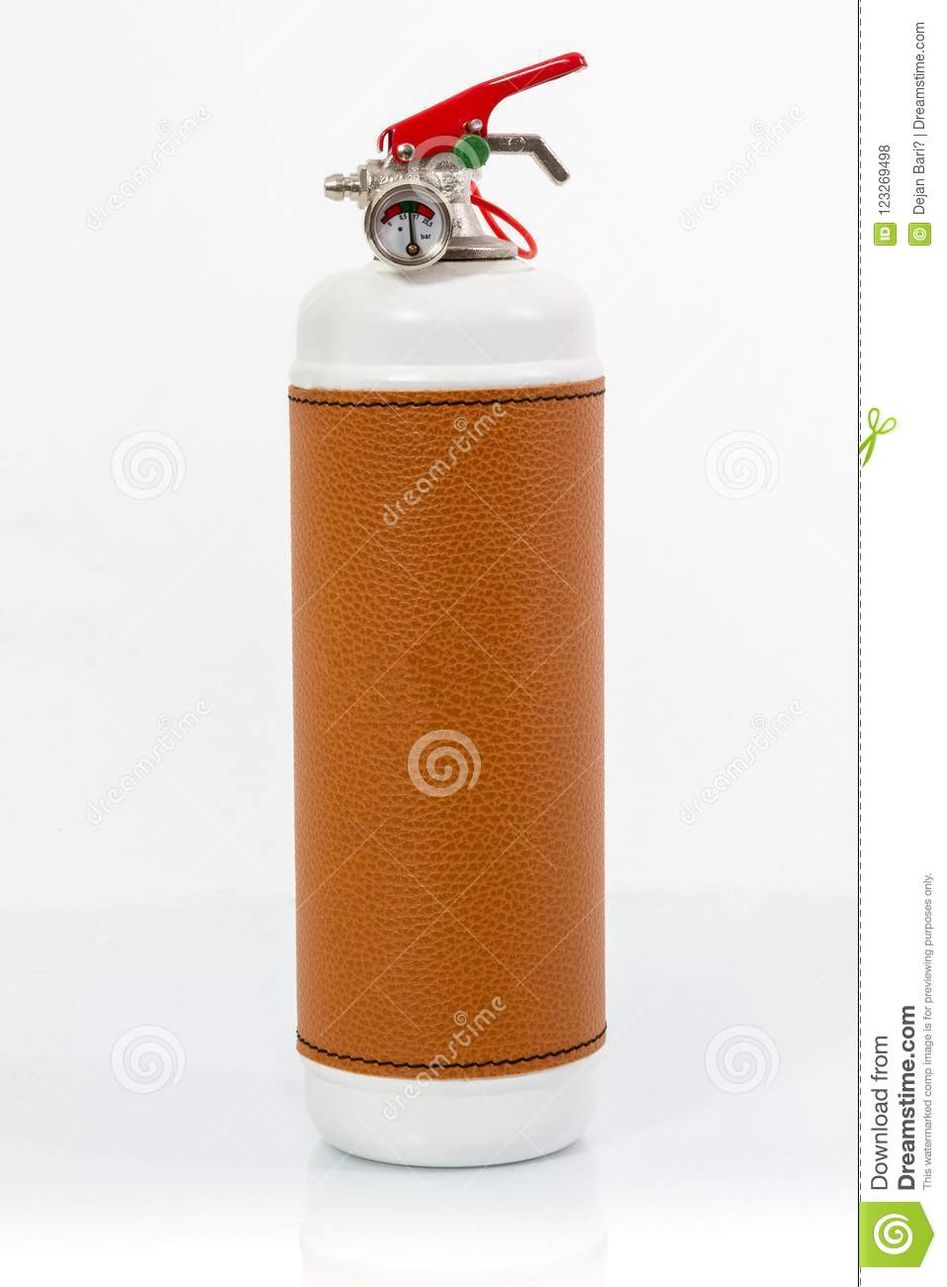fire_extinguisher: (287, 50, 609, 1168)
